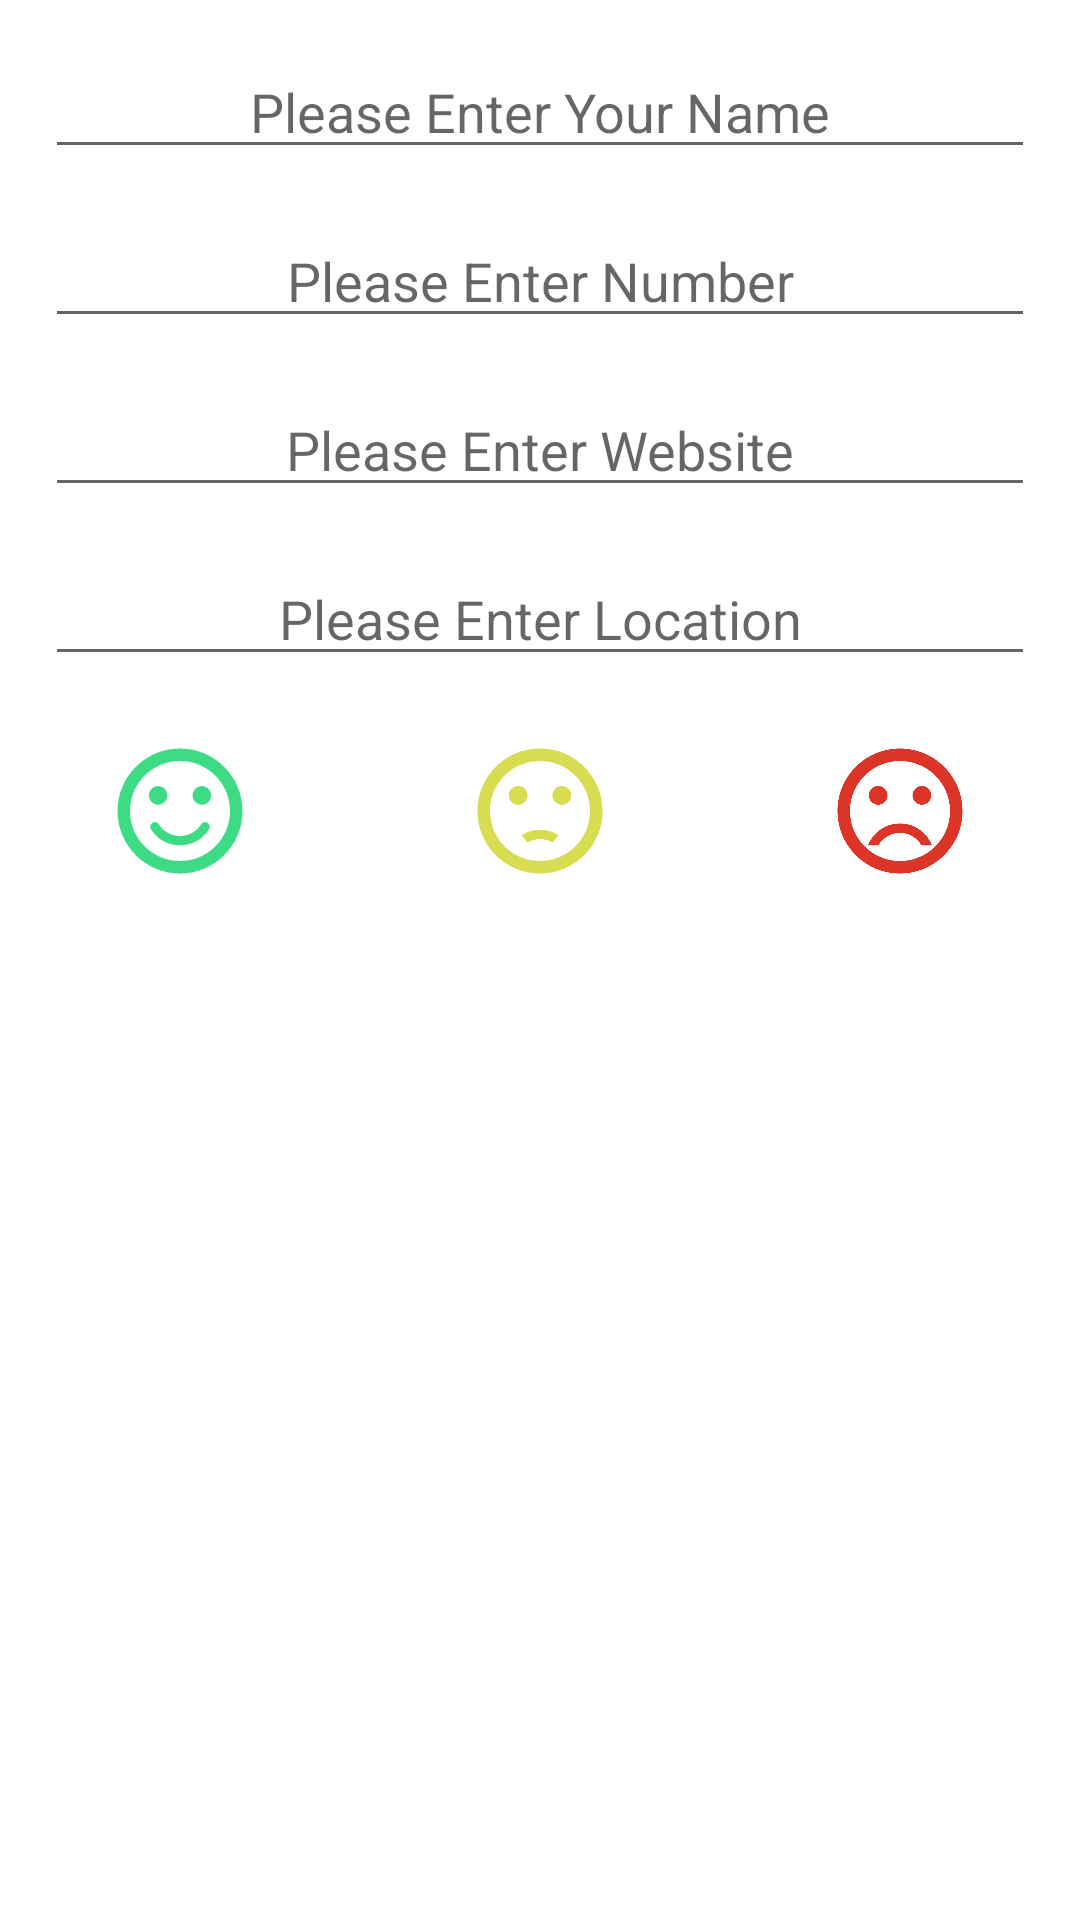

Icon bounding boxes for this 1080 × 1920 phone screenshot, format (x1, y1, x2, y2):
sentiment dissatisfied: (477, 748, 603, 874)
sentiment satisfied: (117, 748, 243, 874)
sentiment very dissatisfied: (837, 748, 963, 874)
